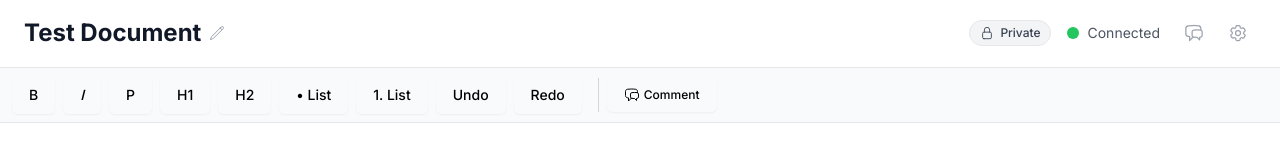
Test: Document Page - Title Editing › cancels editing when cancel button is clicked
Expected: the heading "Test Document" is shown, [24, 17, 201, 49]
Click the element showing "Test Document".
click(125, 32)  # box [24, 18, 225, 47]
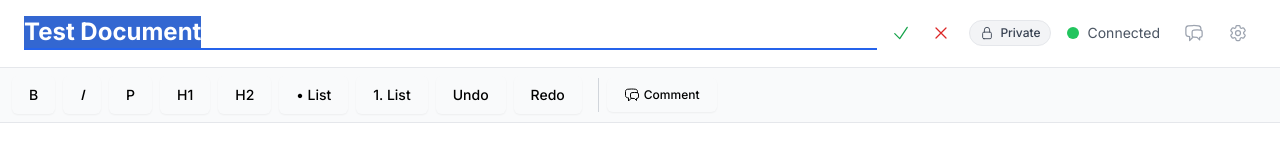
Expected: the field showing "Test Document" is shown
Replace the text in the field showing "Test Document" with "Changed Title" at (451, 33), box [24, 16, 877, 50]
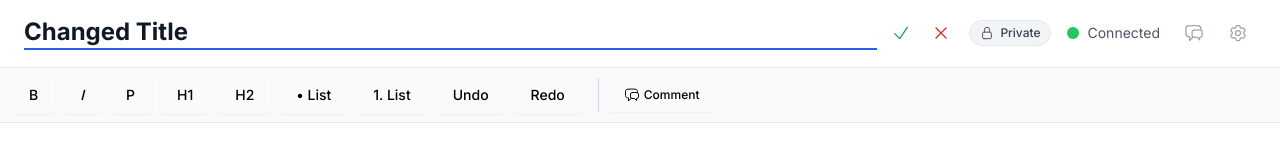
Click the button titled "Cancel editing".
click(941, 33)  # box [925, 17, 957, 49]
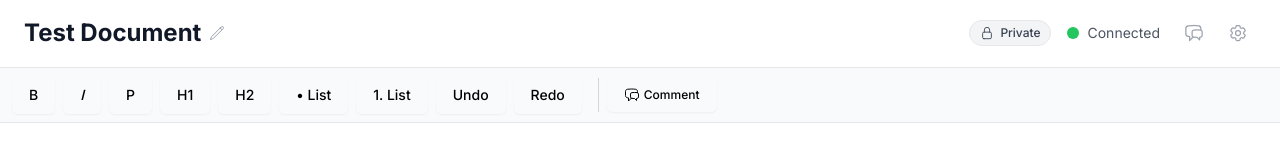
Expected: the field showing "Changed Title" is not shown
Expected: the heading "Test Document" is shown, [24, 17, 201, 49]
